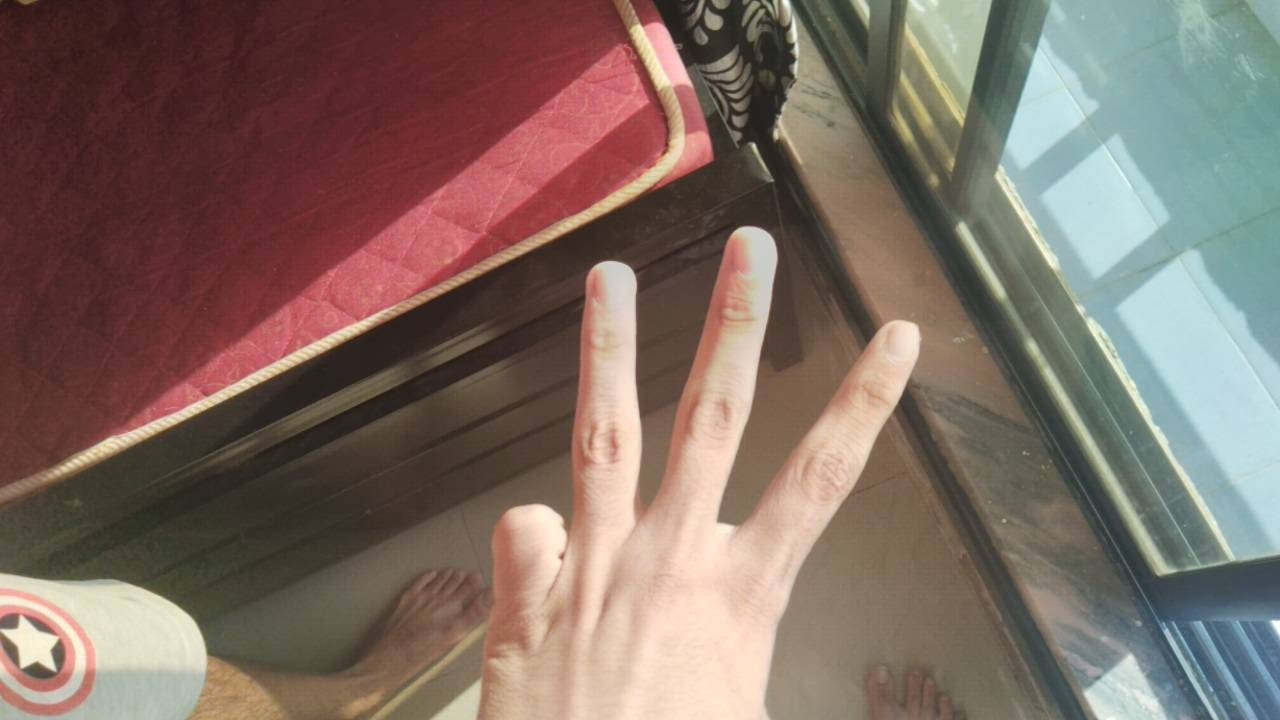fingertip: (866, 310, 940, 378), (712, 220, 780, 288), (572, 254, 640, 320)
